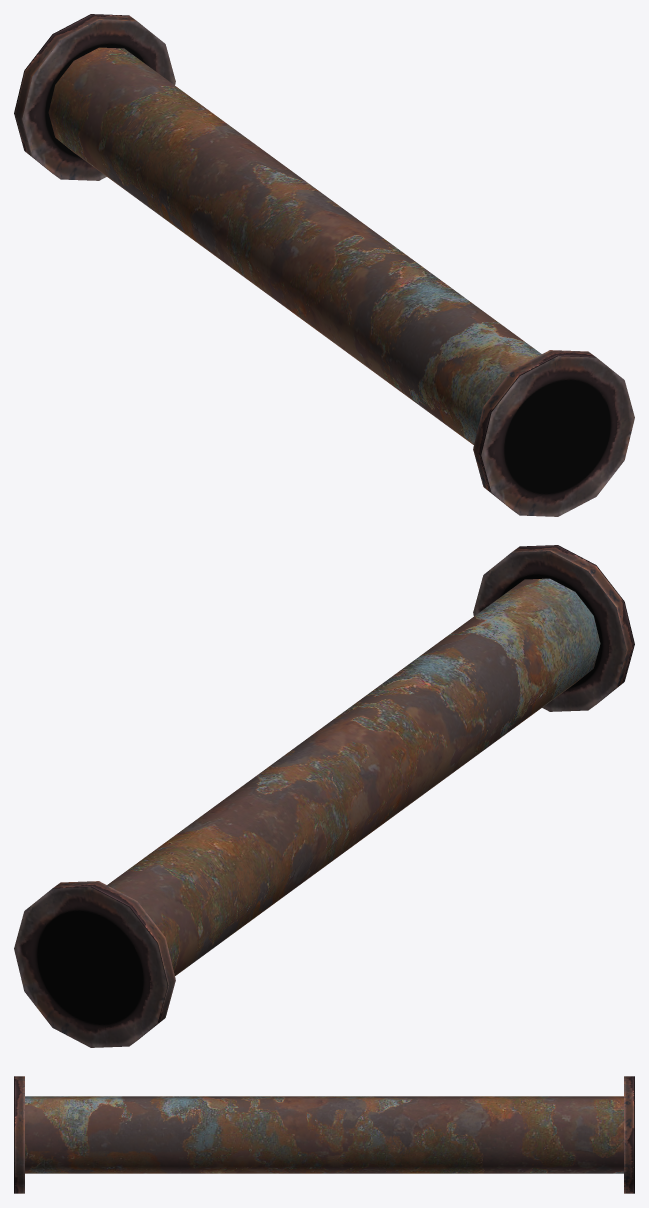
The model's file is pipe02_200cm.fbx.
The picture shows the model from 3 angles, top to bottom: view 1: azimuth 30°, elevation 25°; view 2: azimuth 150°, elevation 25°; view 3: azimuth 270°, elevation 25°; orthographic projection. The views are drawn at different scales.
Parts seen in each view (by area): view 1: pipe02_200cm; view 2: pipe02_200cm; view 3: pipe02_200cm.
Part boxes in pixels (left/top/right/bottom): pipe02_200cm: left=14, top=14, right=634, bottom=516; pipe02_200cm: left=14, top=545, right=634, bottom=1047; pipe02_200cm: left=14, top=1076, right=634, bottom=1193.
Bounding box in the file's own units: 38 × 38 × 200.
